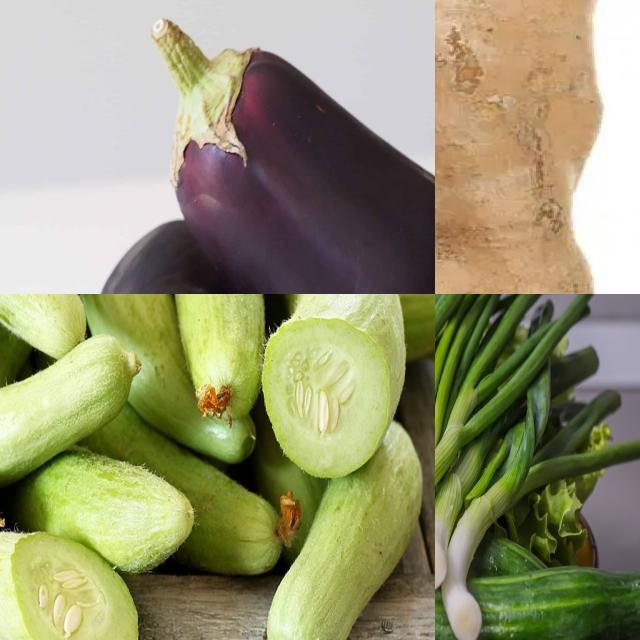cucumber: (267, 418, 426, 640), (218, 295, 410, 469), (87, 295, 262, 471), (1, 295, 142, 485), (436, 521, 640, 640), (21, 443, 195, 566), (436, 560, 640, 640), (1, 528, 145, 640), (149, 295, 268, 408)
eggplant: (153, 16, 436, 295), (96, 219, 268, 295)
potato: (436, 1, 640, 295)
